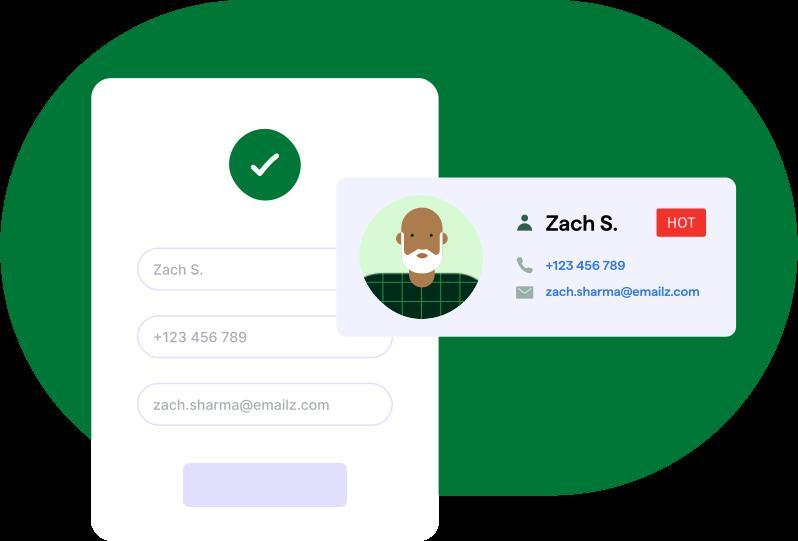button: (184, 465, 348, 507), (657, 209, 708, 239)
icon: (515, 256, 538, 277), (517, 210, 534, 235), (516, 286, 537, 301)
input: (138, 385, 394, 425), (137, 316, 338, 358), (137, 249, 337, 291)
label: (544, 286, 704, 300), (545, 213, 621, 237), (544, 259, 632, 272)
